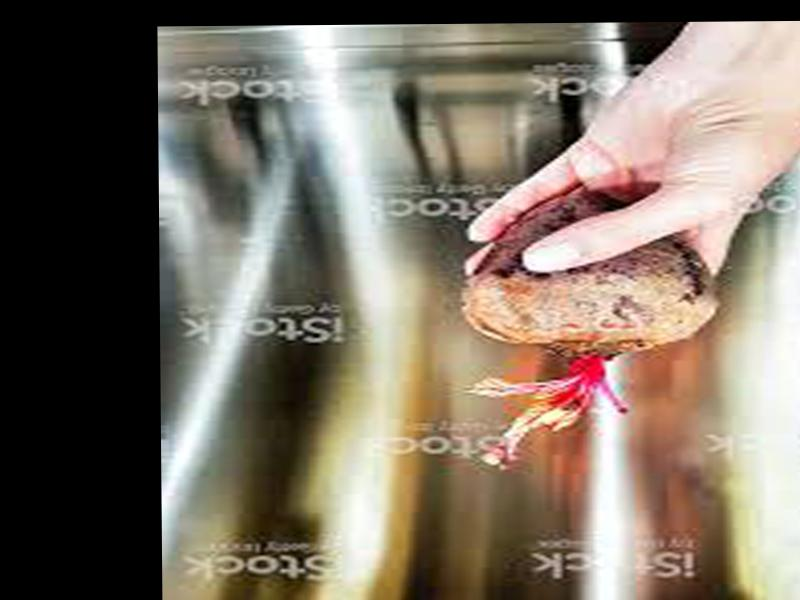Beet: (460, 189, 715, 462)
